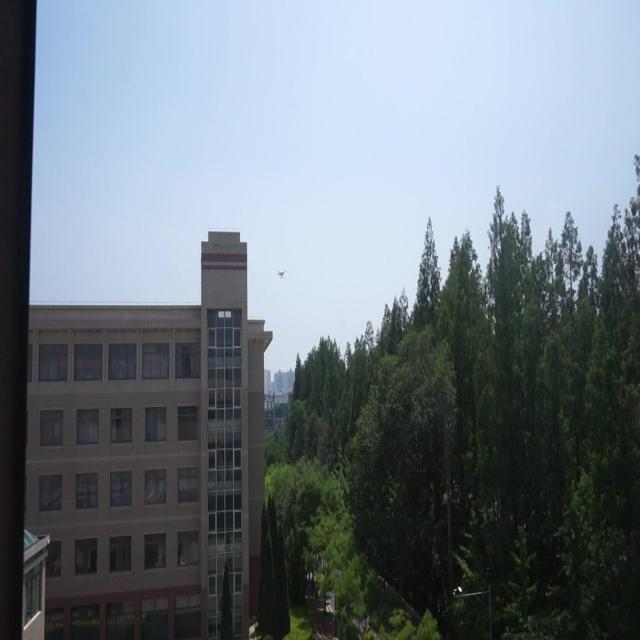drone: (274, 267, 289, 282)
